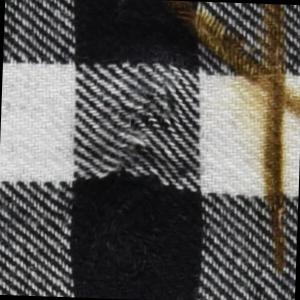Damage: (102, 74, 196, 210)
Oil Stain: (162, 1, 300, 122), (250, 5, 300, 278)
